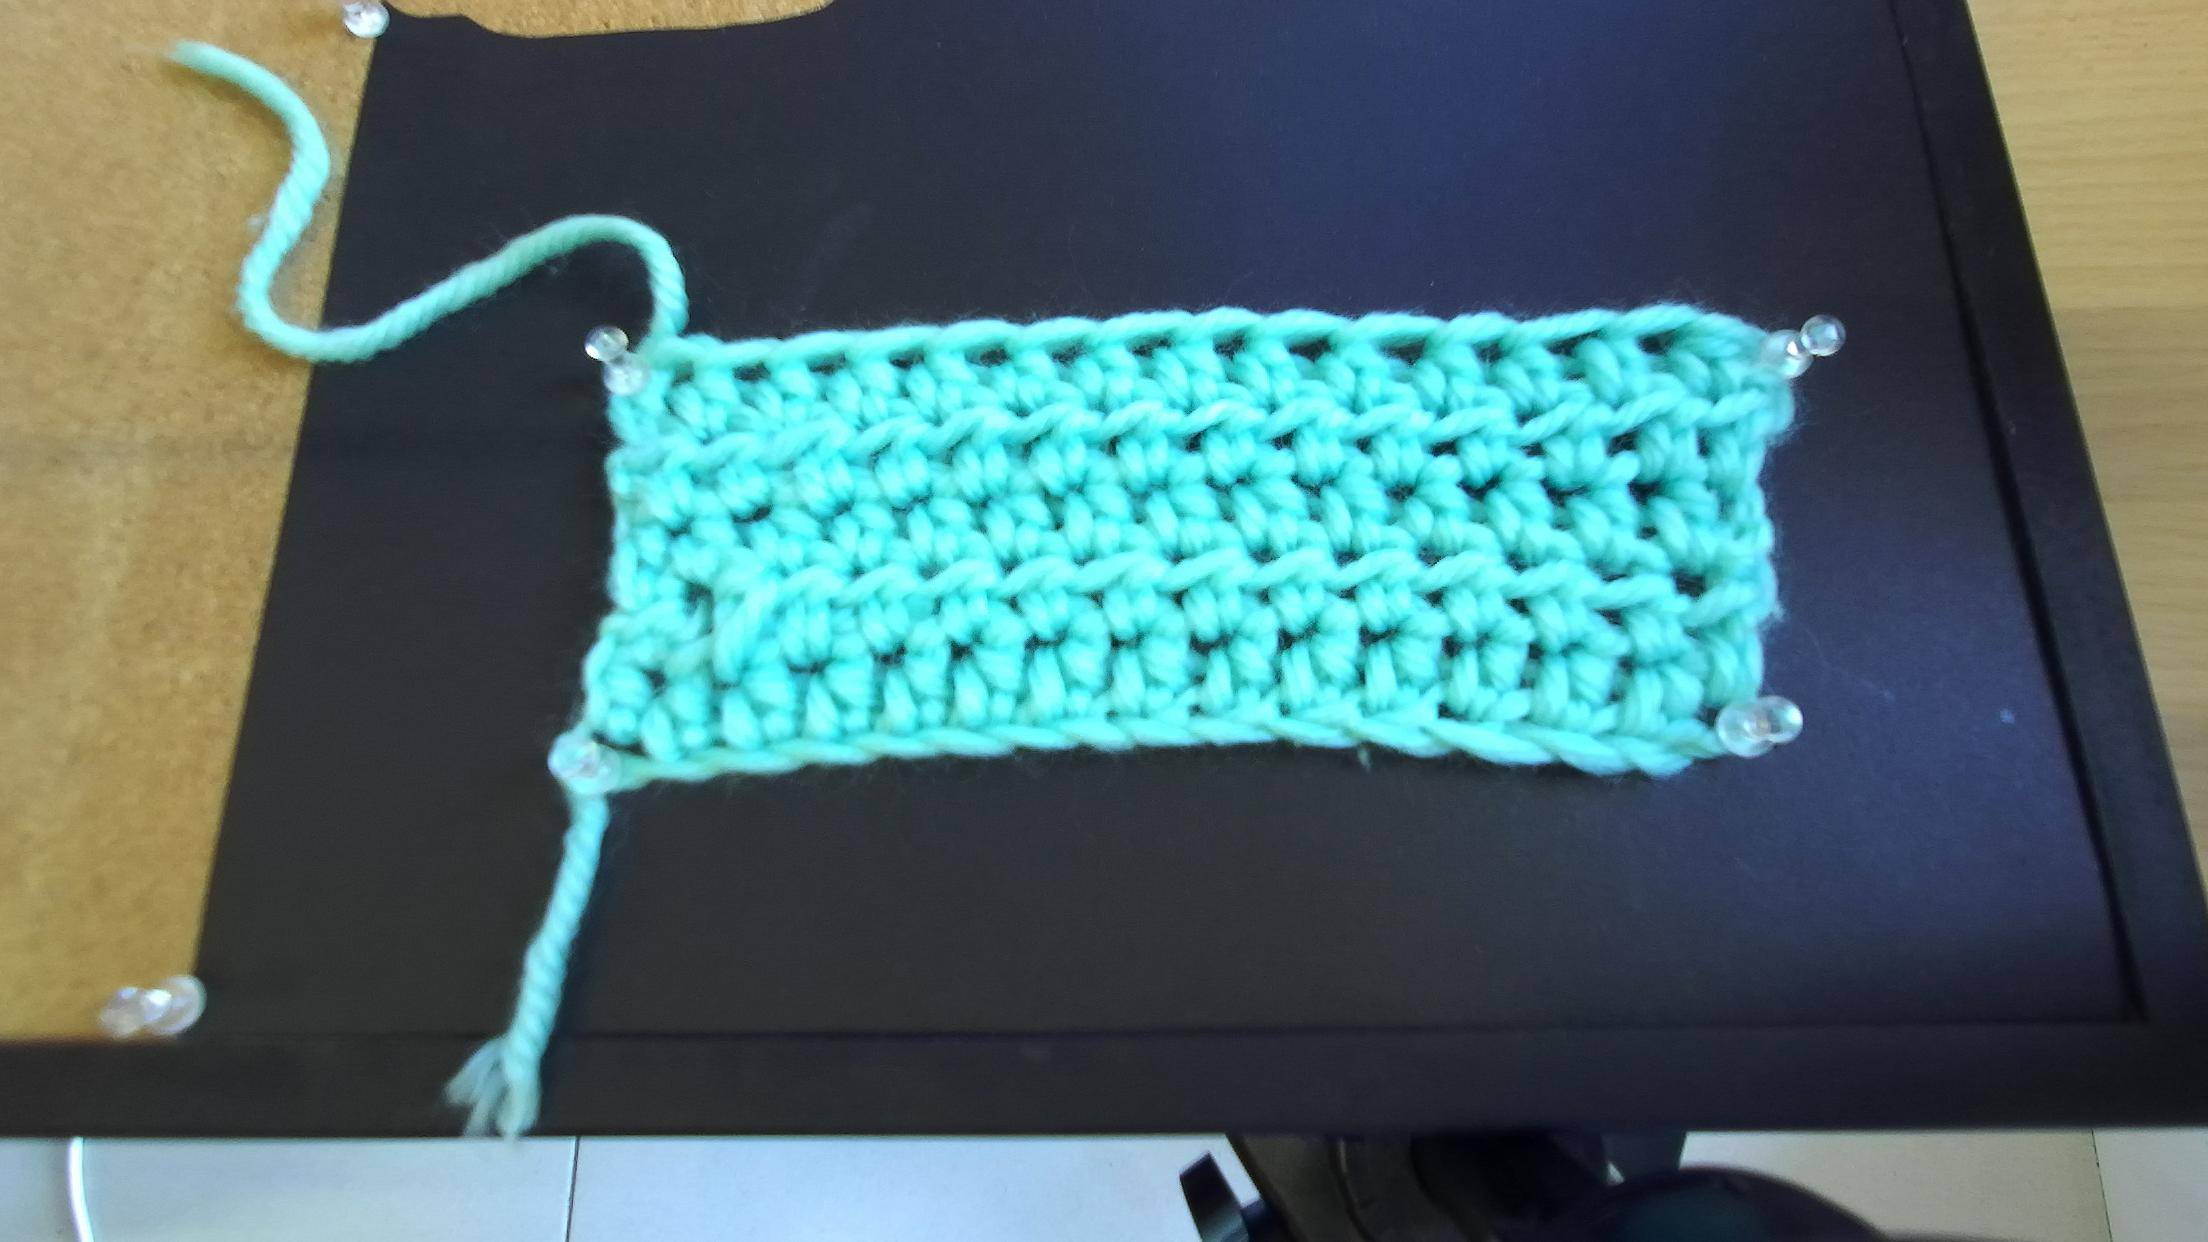hole: (1541, 329, 1603, 359), (1045, 335, 1098, 367), (1378, 335, 1429, 367), (799, 352, 855, 379), (1629, 326, 1679, 356), (1287, 334, 1335, 364), (1124, 332, 1175, 359), (1462, 337, 1503, 369), (729, 359, 776, 387), (886, 343, 925, 373), (964, 343, 1011, 365), (1213, 332, 1248, 362), (667, 358, 696, 391)
swatch: (575, 305, 1841, 789)
